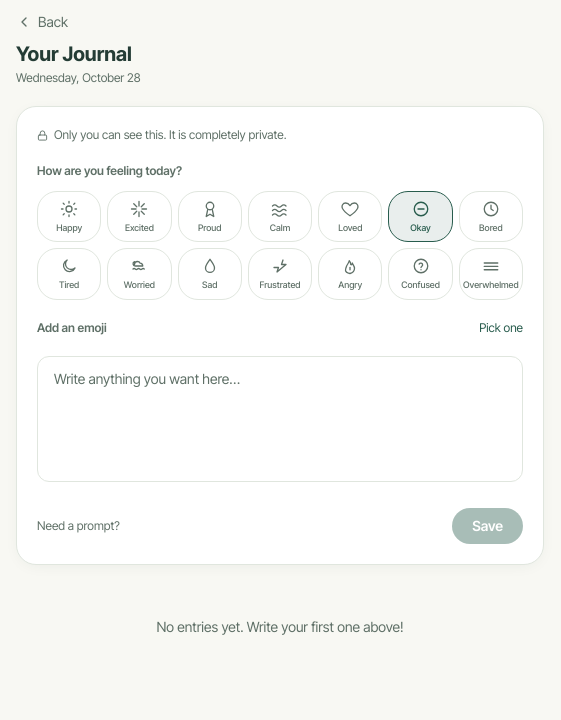
keeps journal writing and shows an error if saving fails
Type "My unsaved writing" into the text box with placeholder "Write anything you want here…" at (280, 418), box x1=37 y1=356 x2=523 y2=482
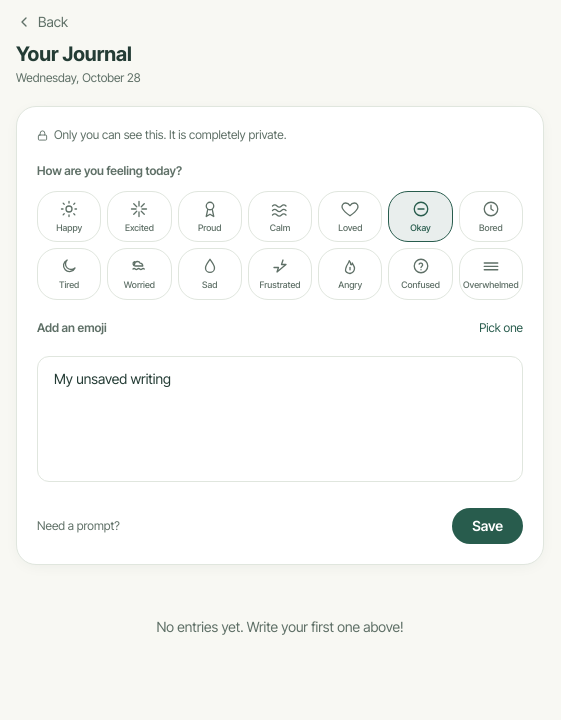
Click the button "Save" at (488, 526), box x1=452 y1=508 x2=523 y2=544
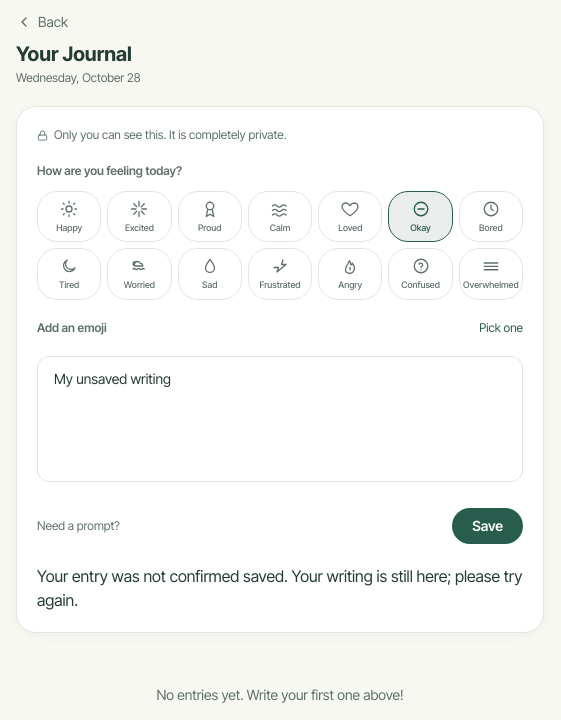
Expected: the message is shown, x1=37 y1=564 x2=523 y2=612
